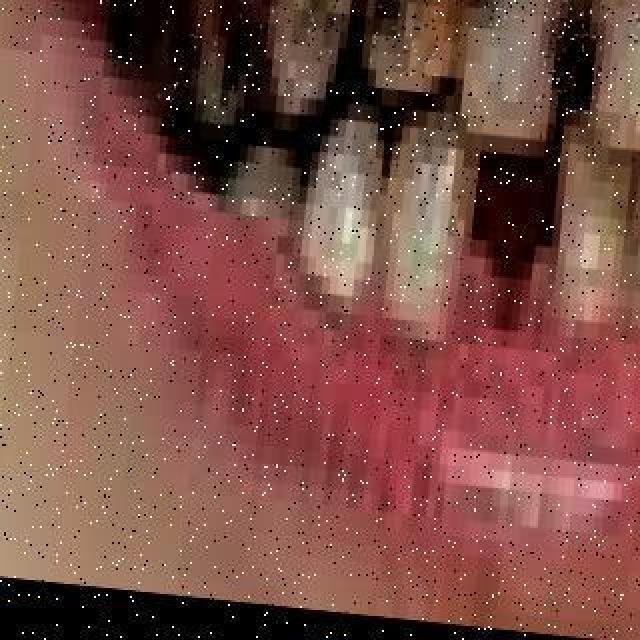cavities: (438, 0, 566, 126), (182, 0, 270, 116), (582, 0, 640, 128), (270, 0, 358, 70), (348, 0, 444, 56)
missing: (475, 150, 567, 324)
